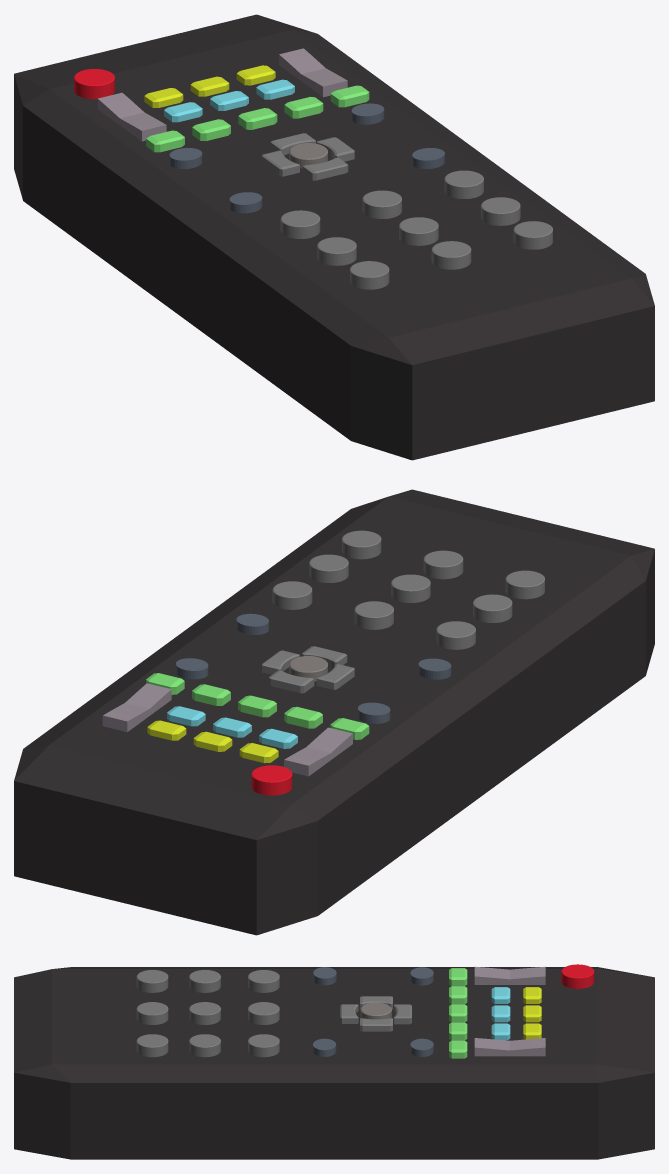
File: remote.fbx
3 views of the same model, one above another, from view 1: azimuth 30°, elevation 25°; view 2: azimuth 150°, elevation 25°; view 3: azimuth 270°, elevation 25° (orthographic). The views are drawn at different scales.
Parts seen in each view (by area): view 1: Куб, Циліндр.006, Куб.005, Куб.007, Циліндр.004, Куб.001, Куб.009, Куб.008, Циліндр.005, Циліндр; view 2: Куб, Циліндр.006, Куб.005, Куб.007, Циліндр.004, Куб.001, Куб.008, Куб.009, Циліндр.005, Циліндр; view 3: Куб, Циліндр.006, Куб.005, Куб.007, Циліндр.004, Куб.001, Куб.008, Куб.009, Циліндр.005, Циліндр.
Part boxes in pixels (x1,y1,x2,y2): Куб: (14,14,654,460); Циліндр.006: (280,170,552,289); Куб.005: (97,48,347,141); Куб.007: (146,85,369,152); Циліндр.004: (169,103,444,213); Куб.001: (262,133,354,180); Куб.009: (144,65,275,107); Куб.008: (164,79,294,122); Циліндр.005: (74,69,114,99); Циліндр: (289,143,327,168); Куб: (14,489,654,935); Циліндр.006: (272,530,544,649); Куб.005: (102,683,352,776); Куб.007: (146,673,369,739); Циліндр.004: (176,613,451,723); Куб.001: (262,646,354,693); Куб.008: (167,706,297,748); Куб.009: (147,720,278,763); Циліндр.005: (251,765,292,795); Циліндр: (289,656,327,681); Куб: (14,967,654,1159); Циліндр.006: (136,970,279,1057); Куб.005: (474,966,545,1056); Куб.007: (449,968,467,1058); Циліндр.004: (313,967,433,1056); Куб.001: (340,996,411,1031); Куб.008: (491,987,510,1040); Куб.009: (523,987,541,1039); Циліндр.005: (561,964,594,988); Циліндр: (360,1002,391,1019).
Bounding box in the file's own units: 37.78 × 15.82 × 88.4.
